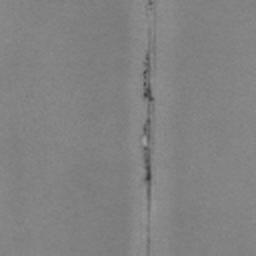Slag inclusion: (143, 51, 155, 104), (143, 146, 152, 197), (143, 117, 151, 141)
